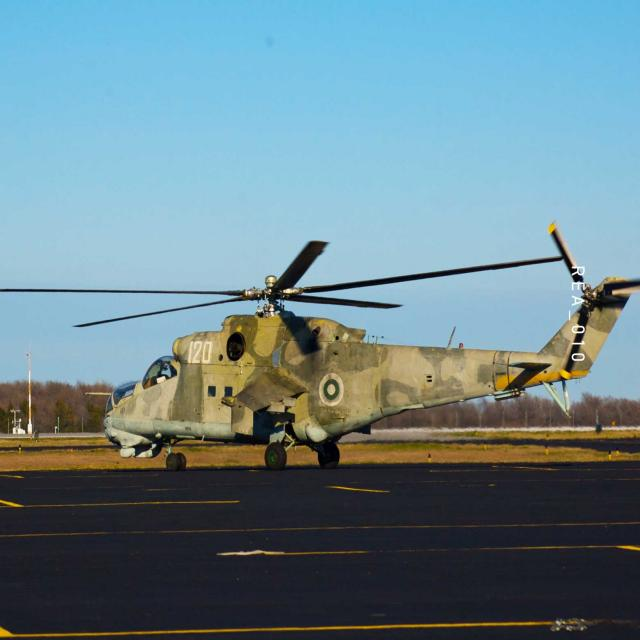helicopter: (1, 218, 640, 484)
